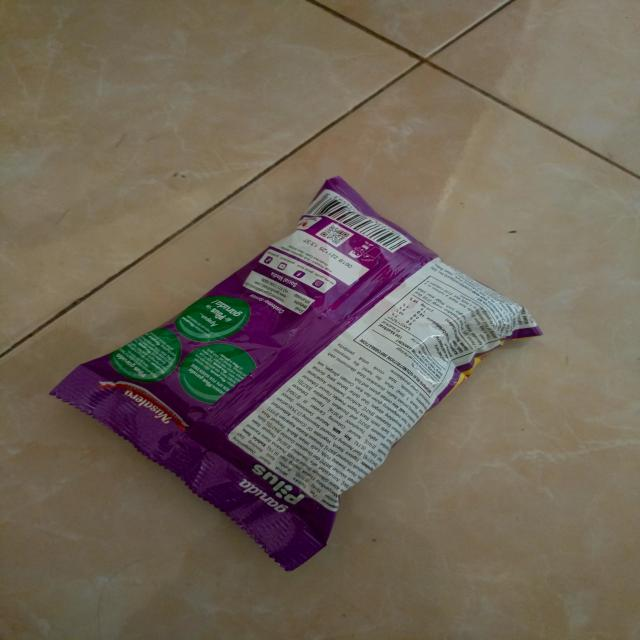pilus-rendang: (50, 175, 544, 574)
